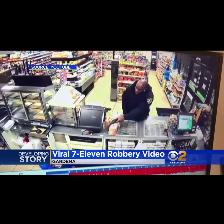person: (118, 78, 154, 122)
